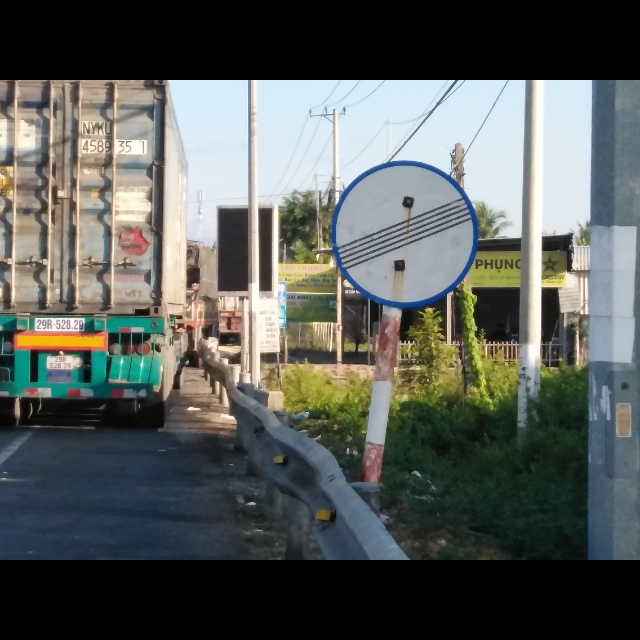Hết tất cả các lệnh cấm: (324, 154, 483, 306)
